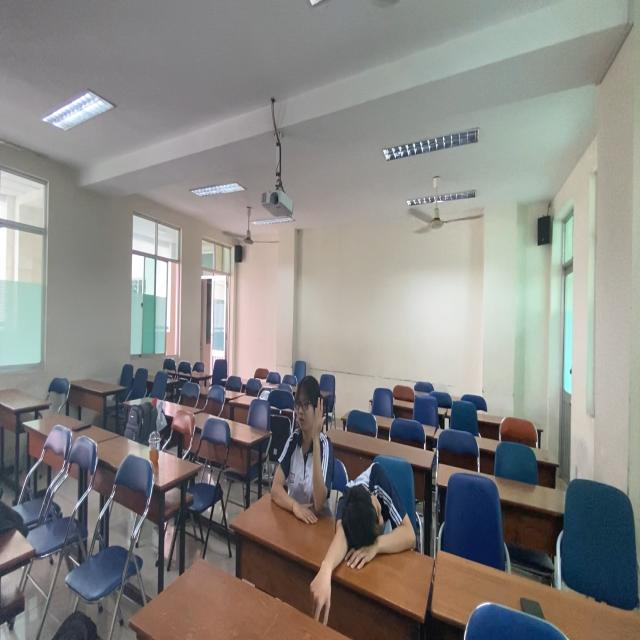raise_hand: (266, 369, 337, 530)
sleep: (324, 456, 419, 578)
